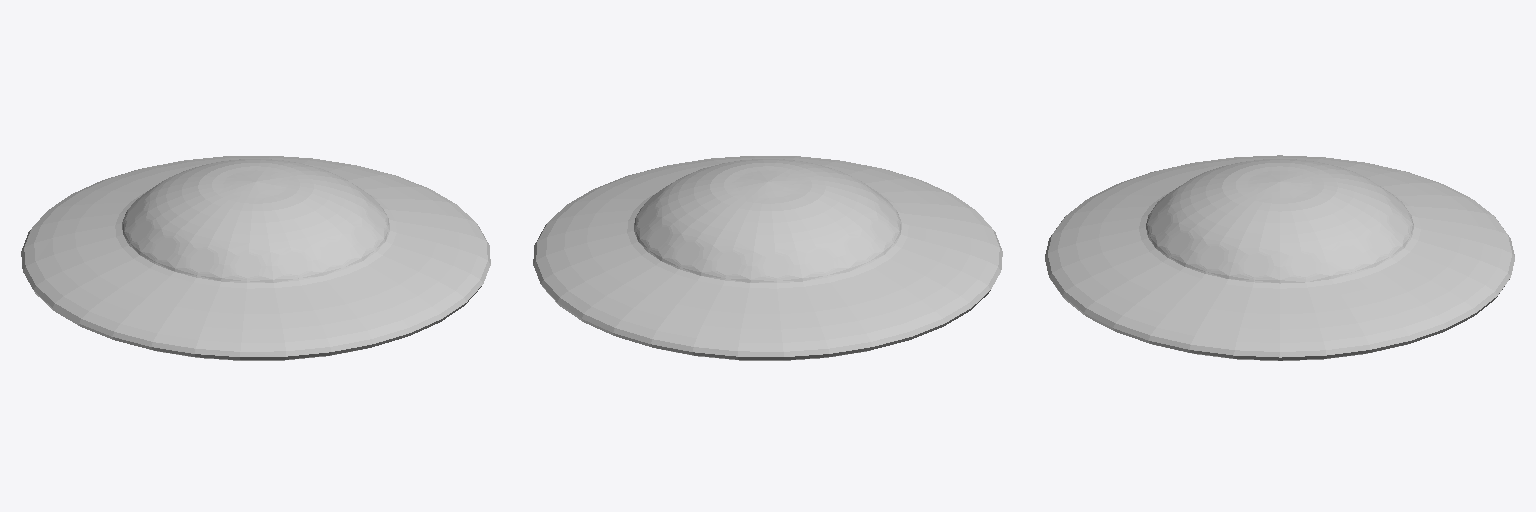
File: saucer.obj
3 views of the same model, side by side, from view 1: azimuth 30°, elevation 25°; view 2: azimuth 150°, elevation 25°; view 3: azimuth 270°, elevation 25° (orthographic).
Parts seen in each view (by area): view 1: Spaceship; view 2: Spaceship; view 3: Spaceship.
Part boxes in pixels (x1,y1,x2,y2): Spaceship: (21, 156, 490, 360); Spaceship: (533, 156, 1002, 360); Spaceship: (1045, 155, 1514, 360).
Size of the model in its own units: 3.08 by 1.07 by 3.08.